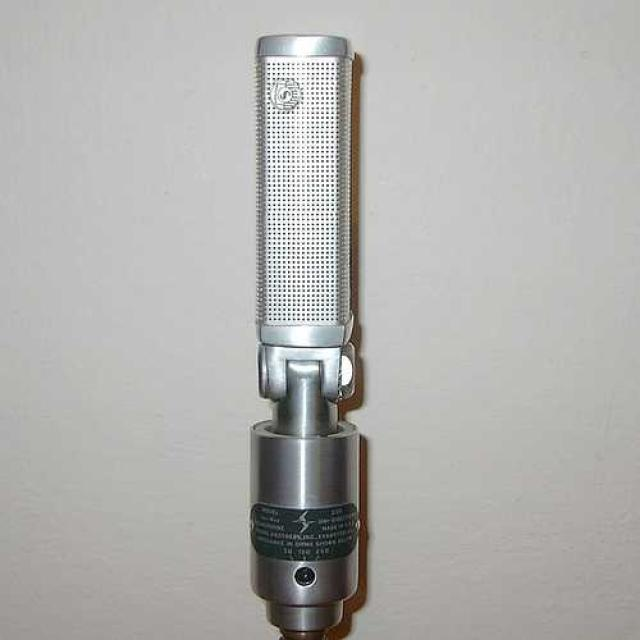microphone: (246, 36, 361, 635)
